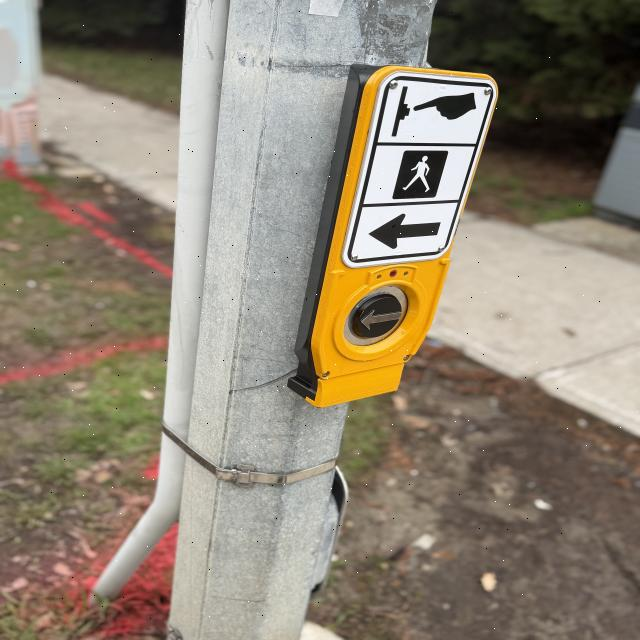Electrical Pole: (154, 3, 504, 640)
